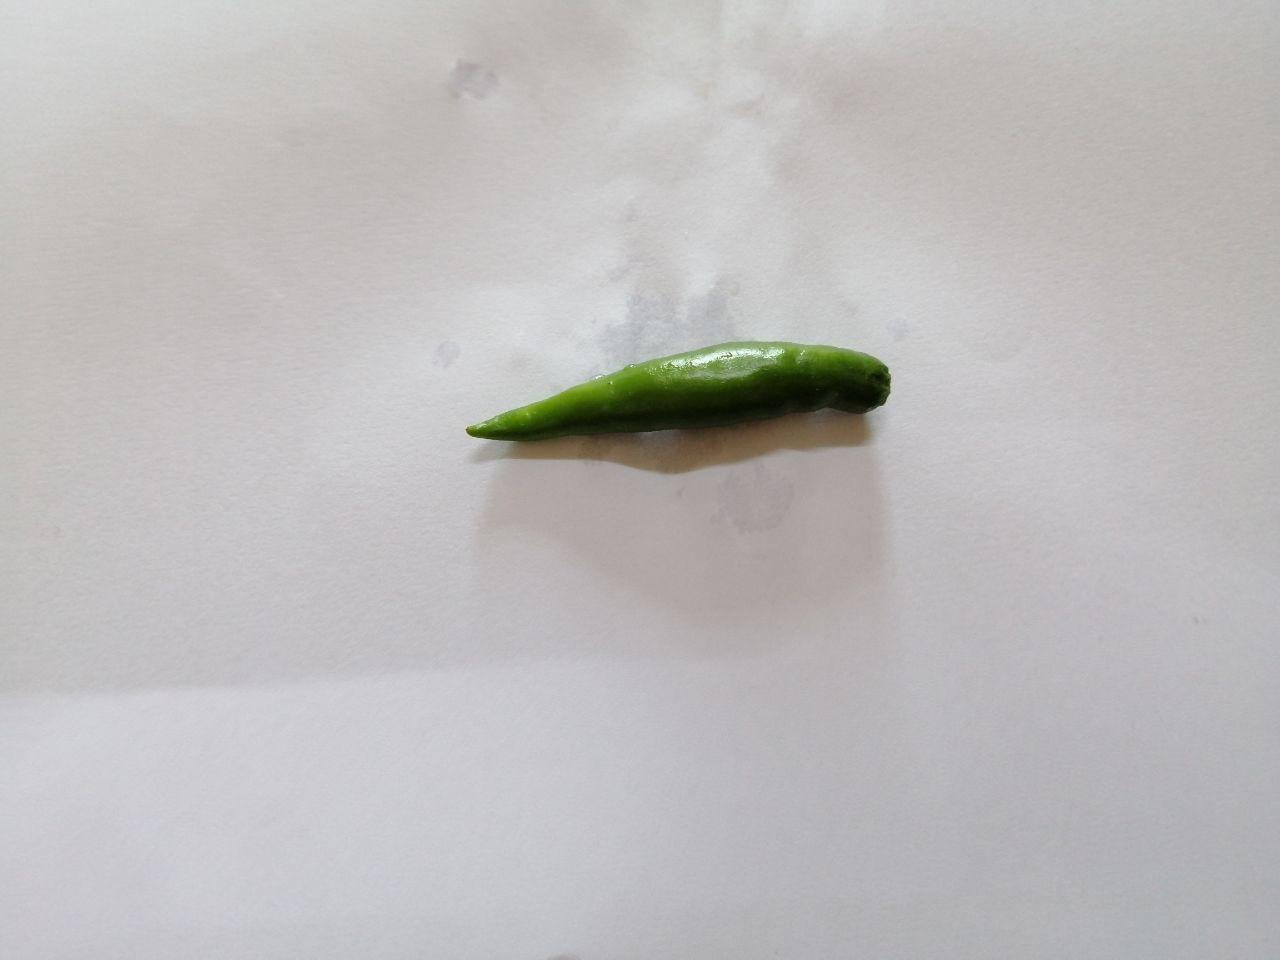lada hijau: (438, 328, 924, 484)
